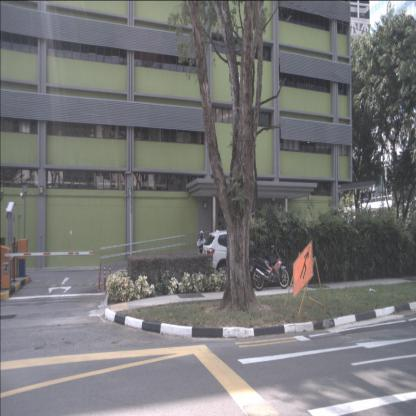cone: (108, 266, 112, 294), (102, 265, 106, 292), (98, 264, 102, 291)
